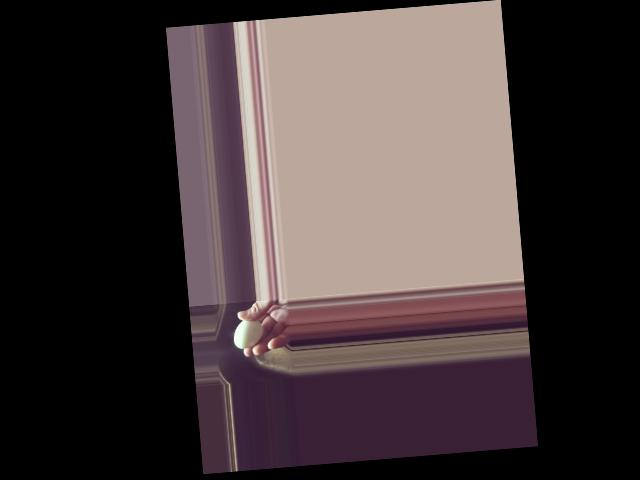egg: (232, 318, 264, 349)
